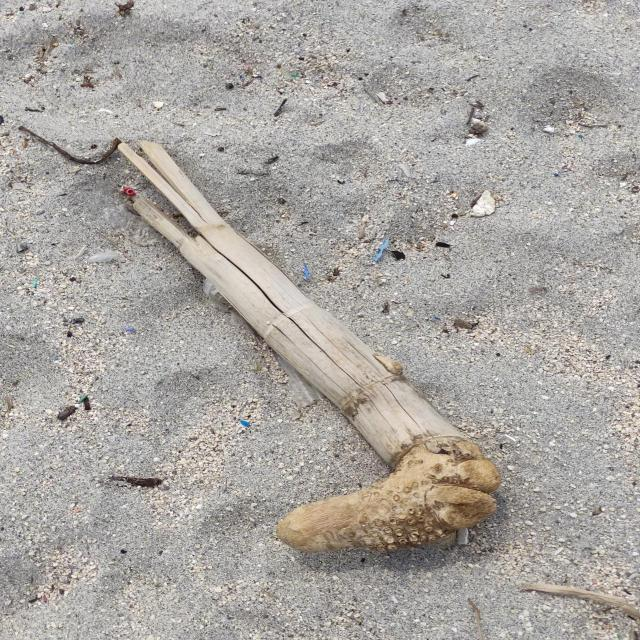wood_waste: (119, 140, 497, 474)
